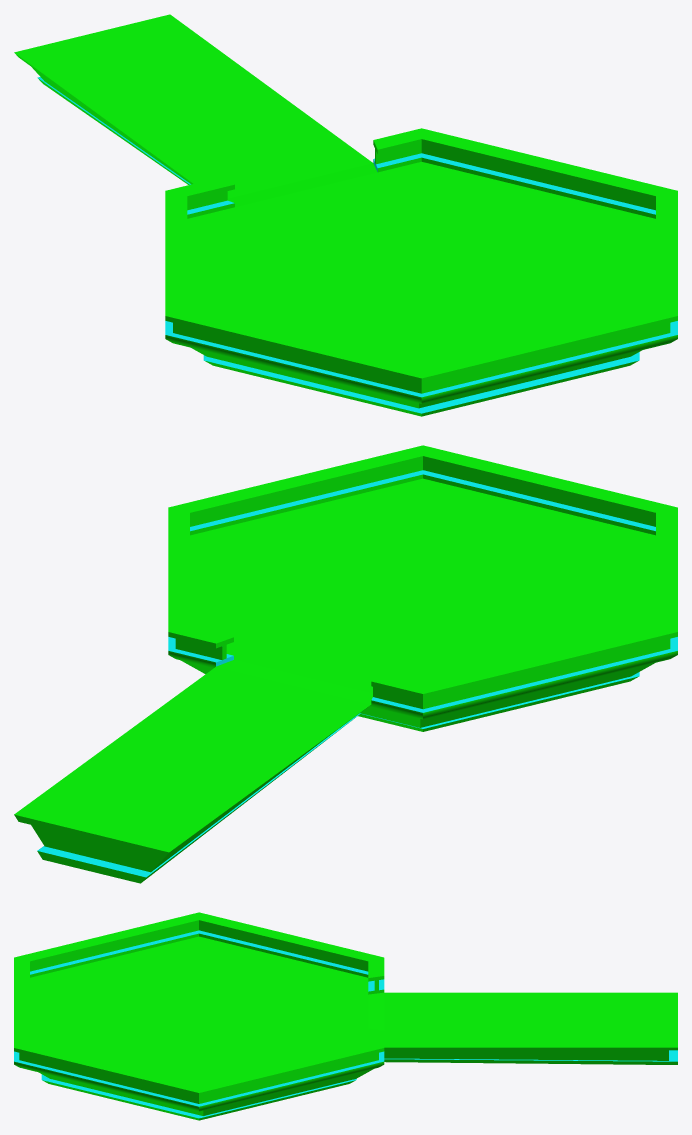
Rendered from SM_Platform_01.fbx.
3 renders of one model, top to bottom at view 1: azimuth 30°, elevation 25°; view 2: azimuth 150°, elevation 25°; view 3: azimuth 270°, elevation 25°, orthographic. The views are drawn at different scales.
Parts seen in each view (by area): view 1: pCylinder1; view 2: pCylinder1; view 3: pCylinder1.
Boxes of the visible parts, x1,y1,x2,y2 form: pCylinder1: (14,14,677,416); pCylinder1: (14,445,677,883); pCylinder1: (14,912,677,1120).
Bounding box in the file's own units: 26.66 × 3.06 × 41.4.
